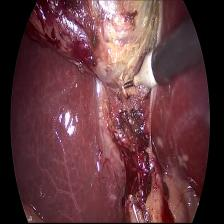Hook: (122, 47, 156, 103)
